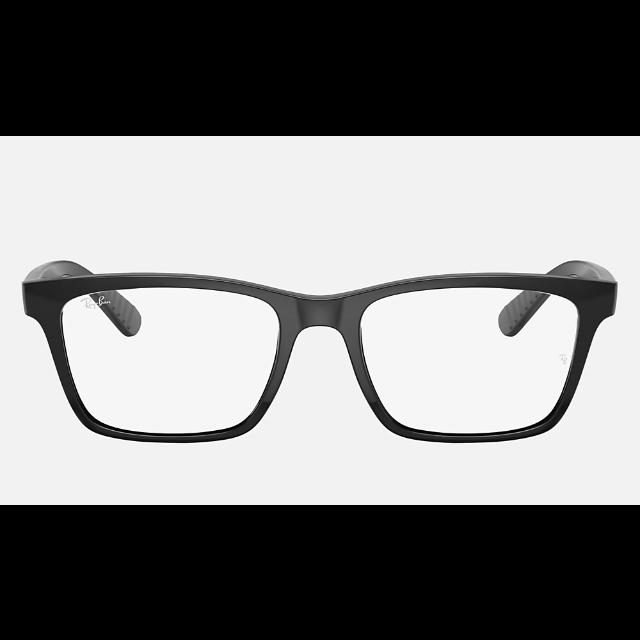glasses: (25, 256, 619, 442)
